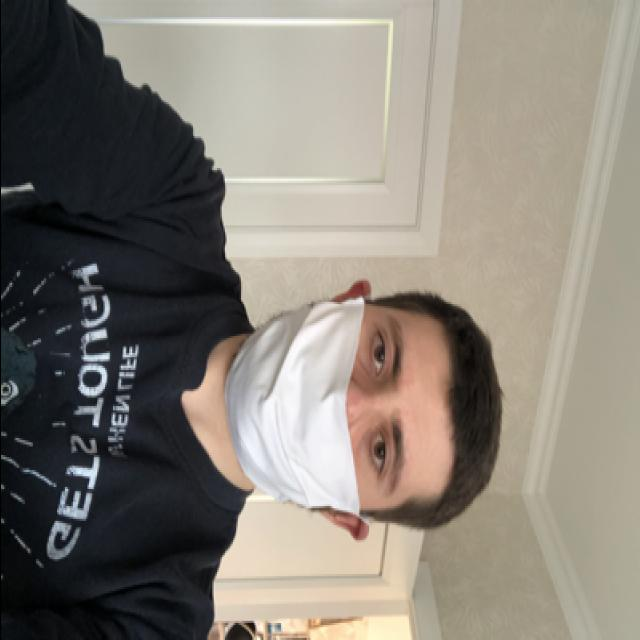mask: (226, 294, 424, 514)
